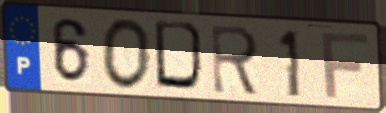1: (276, 27, 303, 99)
6: (49, 16, 93, 86)
D: (152, 18, 210, 95)
F: (318, 31, 371, 101)
O: (98, 16, 153, 92)
R: (209, 22, 263, 98)
